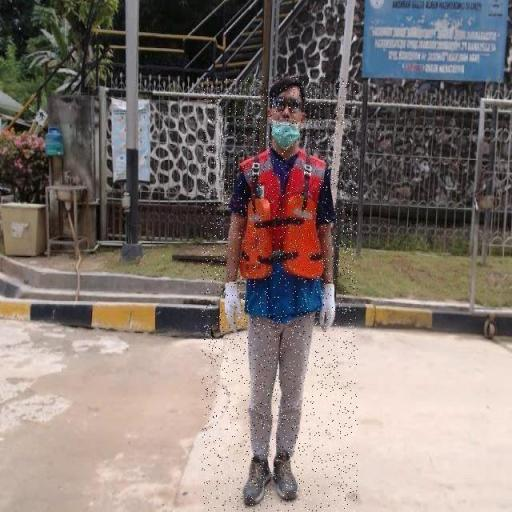Boots: (242, 454, 272, 508), (271, 450, 299, 504)
Person: (202, 75, 358, 512)
